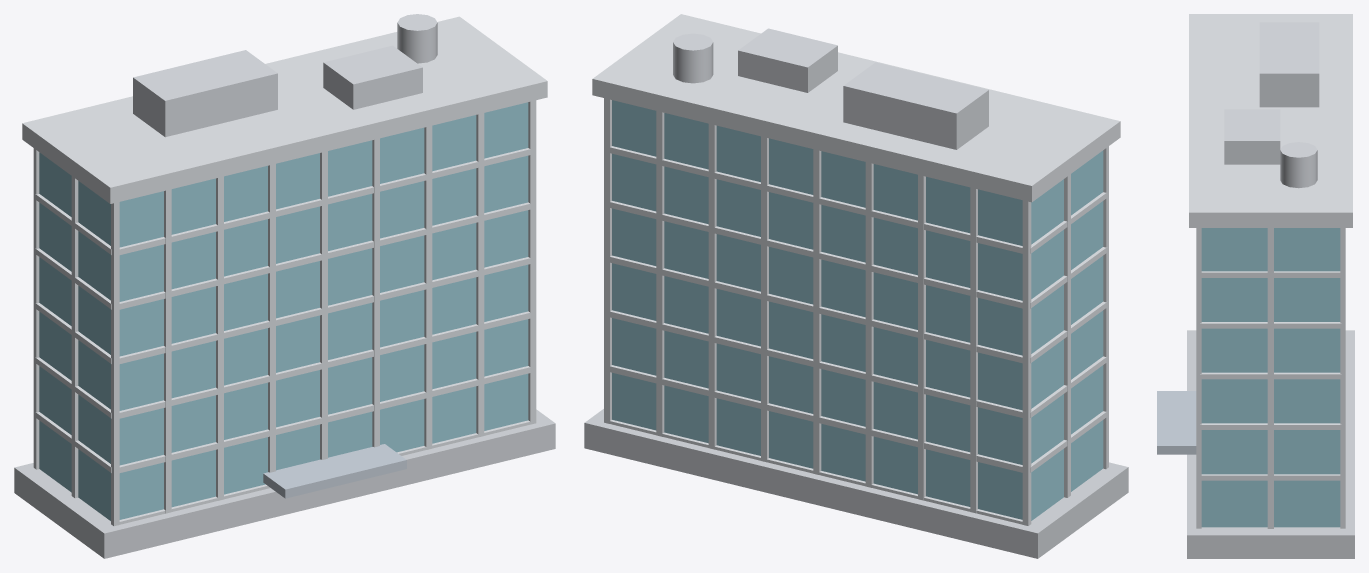
File: num-f-built.glb
3 renders of one model, left to right at view 1: azimuth 30°, elevation 25°; view 2: azimuth 150°, elevation 25°; view 3: azimuth 270°, elevation 25°, orthographic. The views are drawn at different scales.
Size of the model in its own units: 26 by 22.3 by 10.6.
